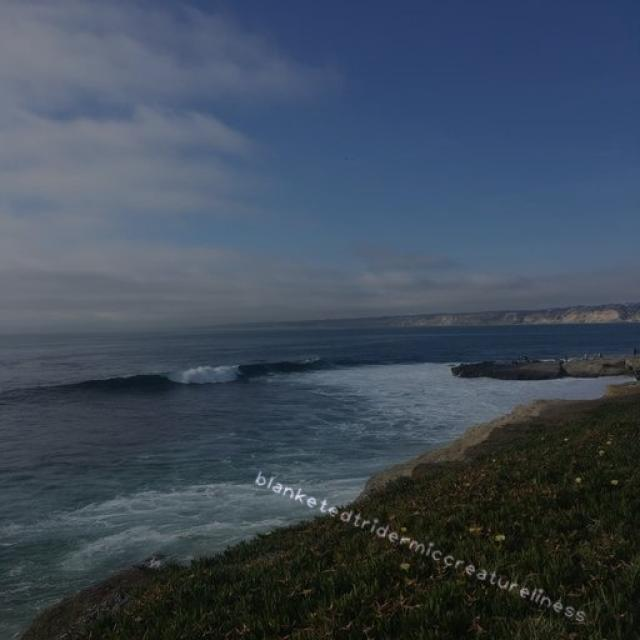watermark: (248, 468, 595, 626)
